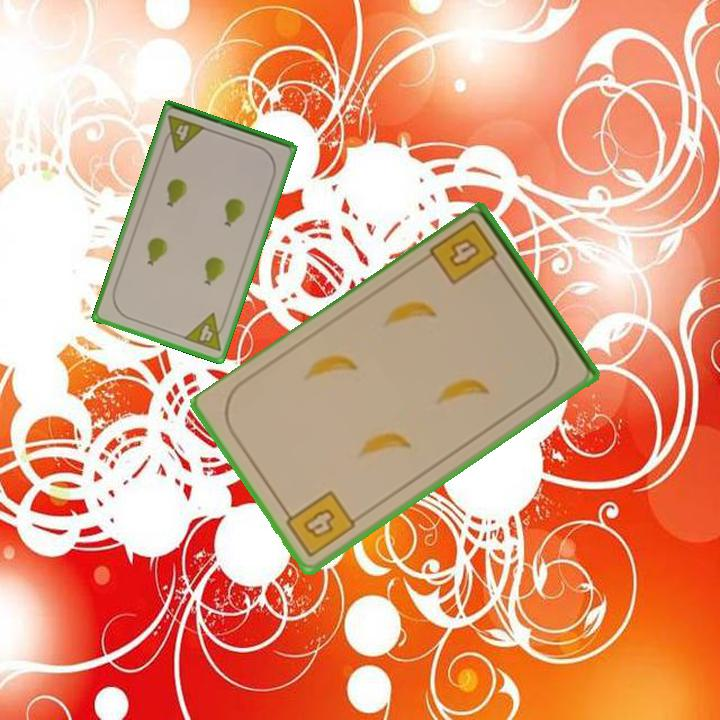4b: (279, 487, 359, 561), (426, 216, 506, 288)
4p: (180, 309, 230, 355), (159, 112, 208, 155)
